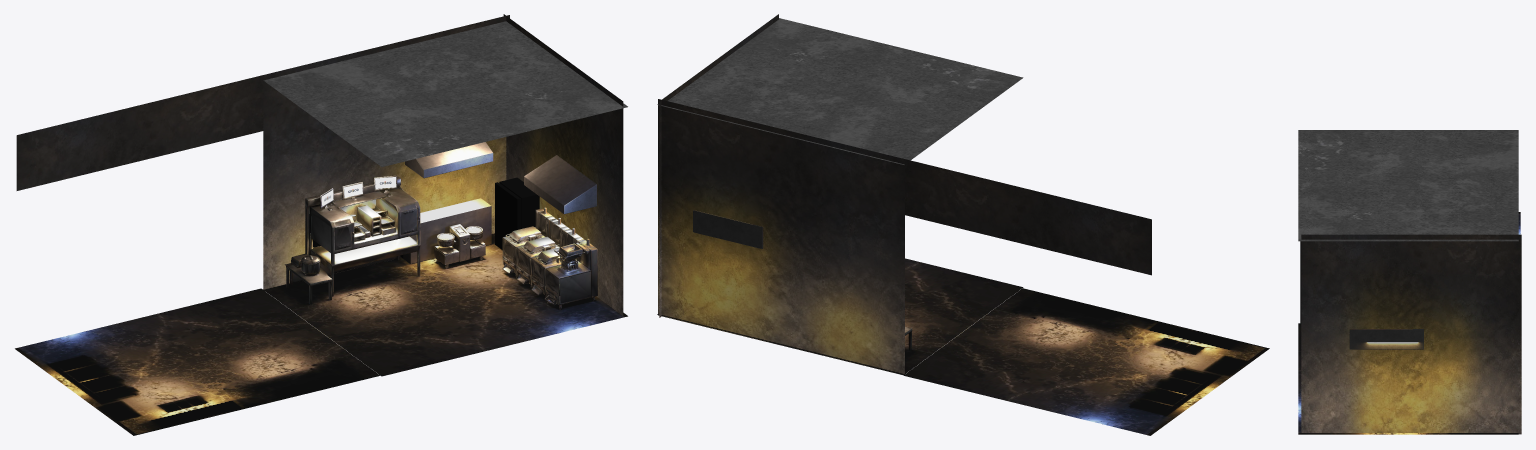
Rendered from kitchen_layer.glb.
3 views of the same model, side by side, from view 1: azimuth 30°, elevation 25°; view 2: azimuth 150°, elevation 25°; view 3: azimuth 270°, elevation 25° (orthographic). The views are drawn at different scales.
Parts seen in each view (by area): view 1: Plane.021, Plane.003, Plane, Kitchen, Plane.006, Plane.020, Plane.001, Plane.002, Cube, Plane.004, Plane.007; view 2: Plane.006, Plane.021, Plane.003, Plane.020, Plane, Plane.007, Plane.001; view 3: Plane.001, Plane.003, Plane.002, Plane, Plane.021.
Part boxes in pixels (x1,y1,x2,y2): Plane.021: (15,288,379,435); Plane.003: (263,21,627,166); Plane: (263,233,627,376); Kitchen: (284,175,597,309); Plane.006: (263,15,509,290); Plane.020: (16,75,263,190); Plane.001: (503,14,623,315); Plane.002: (524,155,596,214); Cube: (400,198,491,263); Plane.004: (495,177,539,249); Plane.007: (405,142,493,178); Plane.006: (658,99,904,375); Plane.021: (904,288,1269,435); Plane.003: (657,18,1023,164); Plane.020: (905,159,1151,275); Plane: (657,258,1023,374); Plane.007: (693,210,763,248); Plane.001: (659,14,778,317); Plane.001: (1301,234,1521,434); Plane.003: (1298,130,1518,241); Plane.002: (1349,329,1423,349); Plane: (1298,323,1518,434); Plane.021: (1300,212,1520,323).
Bounding box in the file's own units: 16.8 × 7.03 × 7.12.
Materials: 12 (11 with a texture image).
